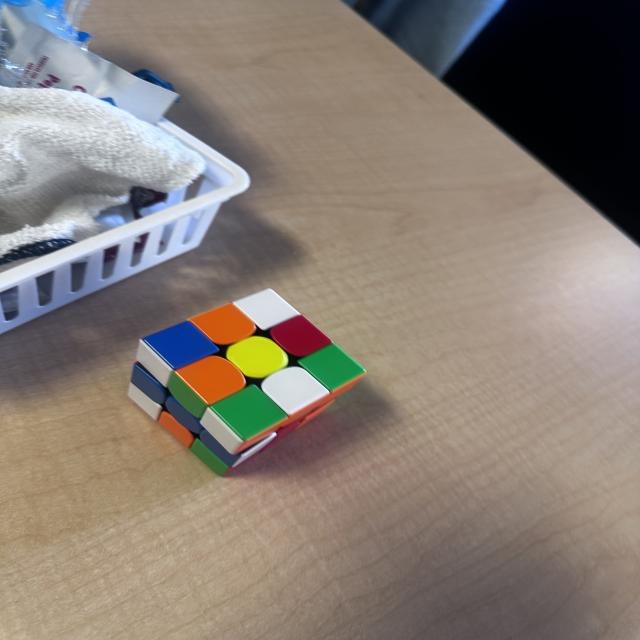sticker: (205, 384, 287, 452), (139, 322, 218, 386), (173, 356, 247, 408), (296, 343, 367, 395), (260, 366, 331, 417), (230, 287, 302, 331), (187, 303, 256, 345), (225, 336, 288, 380), (268, 314, 332, 357), (127, 362, 169, 420), (199, 404, 247, 454), (167, 367, 212, 419), (133, 336, 176, 388), (279, 395, 334, 433), (198, 425, 245, 467), (189, 437, 233, 477), (165, 393, 205, 437), (158, 409, 195, 448)
